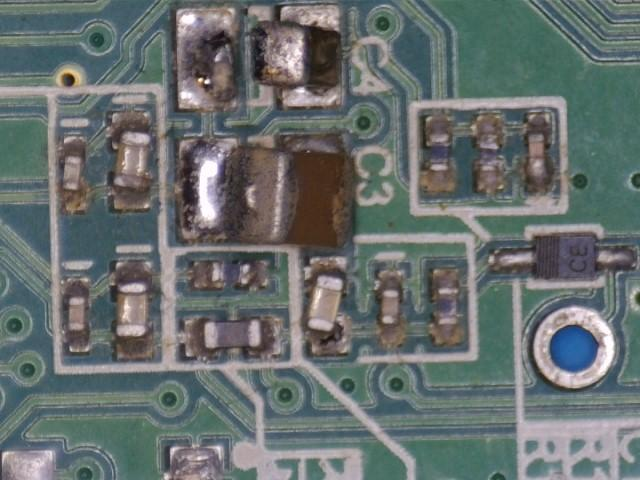Incorrect_installation: (176, 131, 358, 250), (175, 4, 345, 113), (305, 256, 352, 359)
